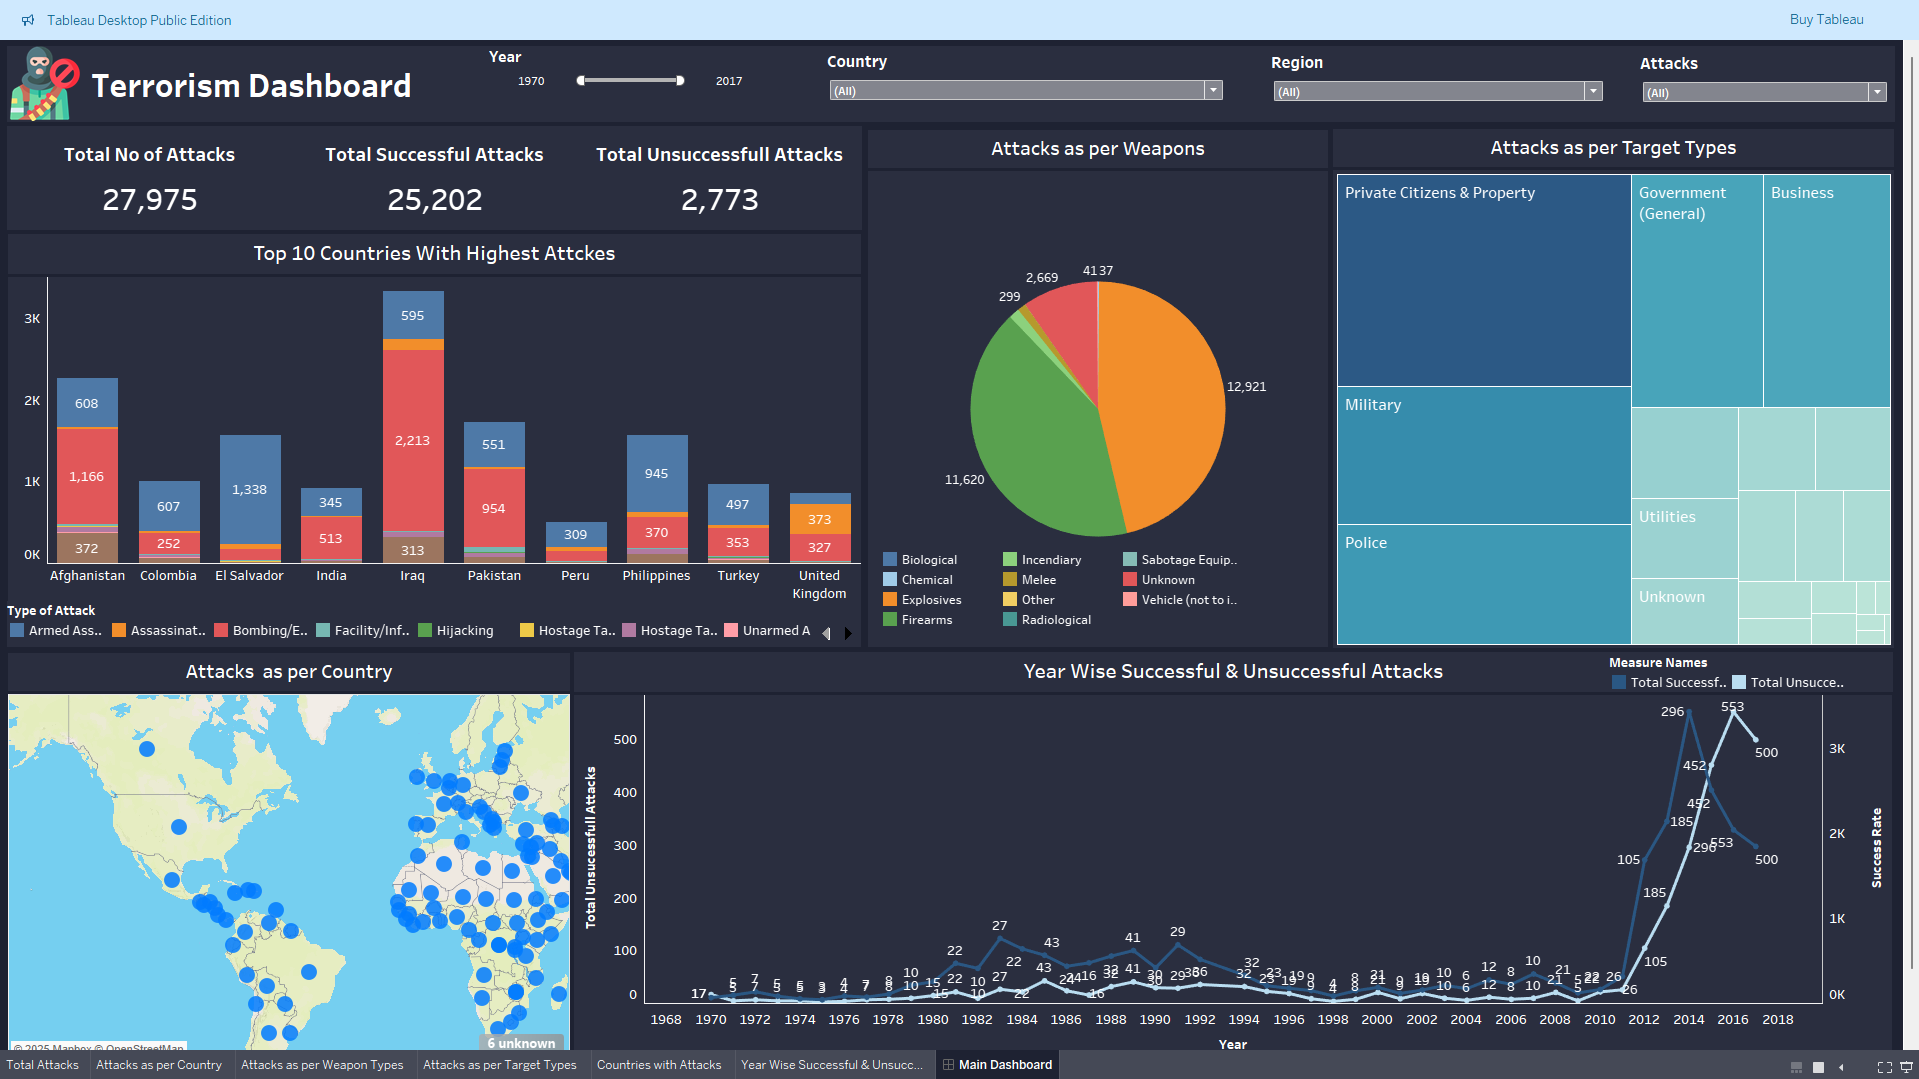

This screenshot's page, from the dashboard's own definition file:
{"tool":"tableau","page":{"name":"Main Dashboard","canvas":[1000,1000],"units":"permille","ordinal":0},"visuals":[{"type":"title","box":[3.5,5.6,992.4,70.4]},{"type":"image","box":[3.5,5.6,45.9,69.4]},{"type":"filter","title":"Attacks as per Country","param":"[federated.1bmx9bo05p3bu715islfo16fbnpu].[none:Year:qk]","box":[257.1,5.6,148.8,67.6]},{"type":"filter","title":"Total Attacks","param":"[federated.1bmx9bo05p3bu715islfo16fbnpu].[none:Country:nk]","box":[434.7,9.3,209.4,62]},{"type":"filter","title":"Total Attacks","param":"[federated.1bmx9bo05p3bu715islfo16fbnpu].[none:Region:nk]","box":[667.6,10.2,175.9,62]},{"type":"filter","title":"Total Attacks","param":"[federated.1bmx9bo05p3bu715islfo16fbnpu].[none:Is Success:nk]","box":[861.8,11.1,131.2,60.2]},{"type":"worksheet","title":"Total Attacks","mark":"Automatic","box":[3.5,79.6,449.4,96.3]},{"type":"worksheet","title":"Attacks as per Target Types","mark":"Automatic","box":[700.6,82.4,294.7,480.6]},{"type":"worksheet","title":"Attacks as per Weapon Types","mark":"Pie","box":[455.9,83.3,241.8,478.7]},{"type":"worksheet","title":"Countries with Attacks","mark":"Automatic","rows":["Type of Attack"],"cols":["Country"],"box":[4.1,179.6,448.2,341.7]},{"type":"legend","title":"Attacks as per Weapon Types","param":"[federated.1bmx9bo05p3bu715islfo16fbnpu].[none:Weapon Type:nk]","box":[462.4,471.3,228.2,83.3]},{"type":"legend","title":"Countries with Attacks","param":"[federated.1bmx9bo05p3bu715islfo16fbnpu].[none:Type of Attack:nk]","box":[3.5,519.4,448.8,42.6]},{"type":"worksheet","title":"Year Wise Successful & Unsuccessful Attacks","mark":"Automatic","rows":["Calculation_1298444090236907520","Success Rate"],"cols":["Year"],"box":[301.8,566.7,692.9,378.7]},{"type":"worksheet","title":"Attacks as per Country","mark":"Automatic","box":[4.1,567.6,295.3,375.9]},{"type":"legend","title":"Year Wise Successful & Unsuccessful Attacks","param":"[federated.1bmx9bo05p3bu715islfo16fbnpu].[:Measure Names]","box":[845.3,567.6,148.2,37]}]}

Visuals, with their boxes on the dashboard's canvas, which has no fixed pixel size, in thousandths of its width and height (x1, y1, x2, y2). These are canvas units, not pixel positions in the 1919x1079 screenshot, which may show the page scaled, cropped or inside an application window:
title: 4:6:996:76
image: 4:6:49:75
"Attacks as per Country" filter: 257:6:406:73
"Total Attacks" filter: 435:9:644:71
"Total Attacks" filter: 668:10:844:72
"Total Attacks" filter: 862:11:993:71
"Total Attacks" worksheet: 4:80:453:176
"Attacks as per Target Types" worksheet: 701:82:995:563
"Attacks as per Weapon Types" worksheet (Pie marks): 456:83:698:562
"Countries with Attacks" worksheet: 4:180:452:521
"Attacks as per Weapon Types" legend: 462:471:691:555
"Countries with Attacks" legend: 4:519:452:562
"Year Wise Successful & Unsuccessful Attacks" worksheet: 302:567:995:945
"Attacks as per Country" worksheet: 4:568:299:944
"Year Wise Successful & Unsuccessful Attacks" legend: 845:568:994:605
